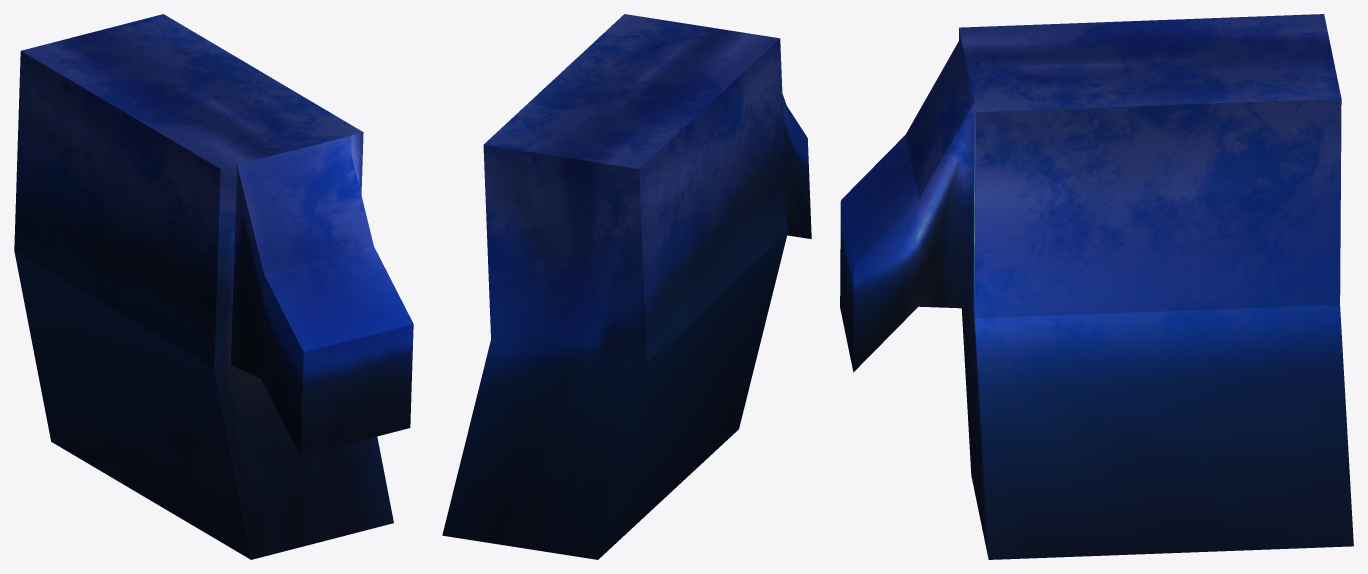
File: L_HAND.obj
The picture shows the model from 3 angles, left to right: view 1: azimuth 30°, elevation 25°; view 2: azimuth 150°, elevation 25°; view 3: azimuth 270°, elevation 25°; orthographic projection. The views are drawn at different scales.
Visible parts, largest first — view 1: pasted__pCube51 group; view 2: pasted__pCube51 group; view 3: pasted__pCube51 group.
Part boxes in pixels (box(x1,y1,x2,y2)): pasted__pCube51 group: box(14, 14, 413, 559); pasted__pCube51 group: box(442, 14, 811, 559); pasted__pCube51 group: box(840, 14, 1353, 559).
Bounding box in the file's own units: 0.538 × 0.9498 × 1.01.
1 material, 1 textured.
